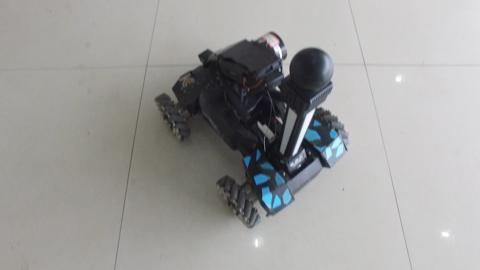chariot: (147, 16, 351, 226)
